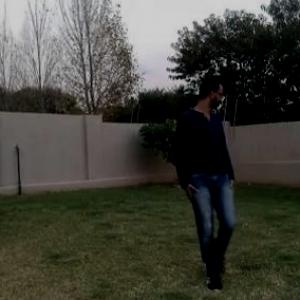follow: (184, 73, 236, 278)
